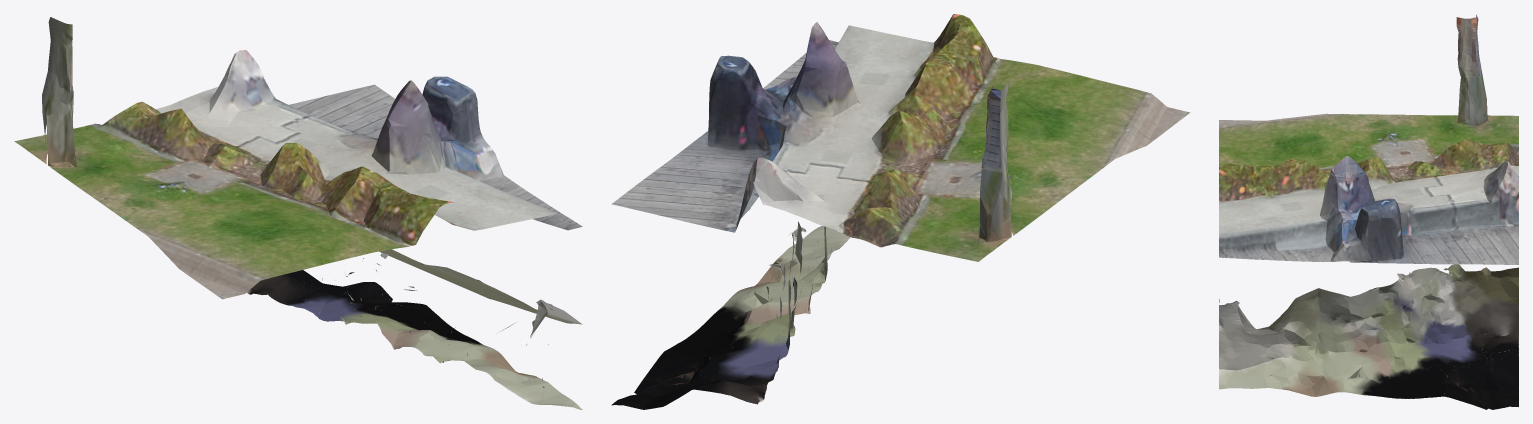
3 renders of one model, left to right at view 1: azimuth 30°, elevation 25°; view 2: azimuth 150°, elevation 25°; view 3: azimuth 270°, elevation 25°, orthographic. The views are drawn at different scales.
Size of the model in its own units: 4.18 by 4.18 by 4.18.
5 materials, 5 textured.
